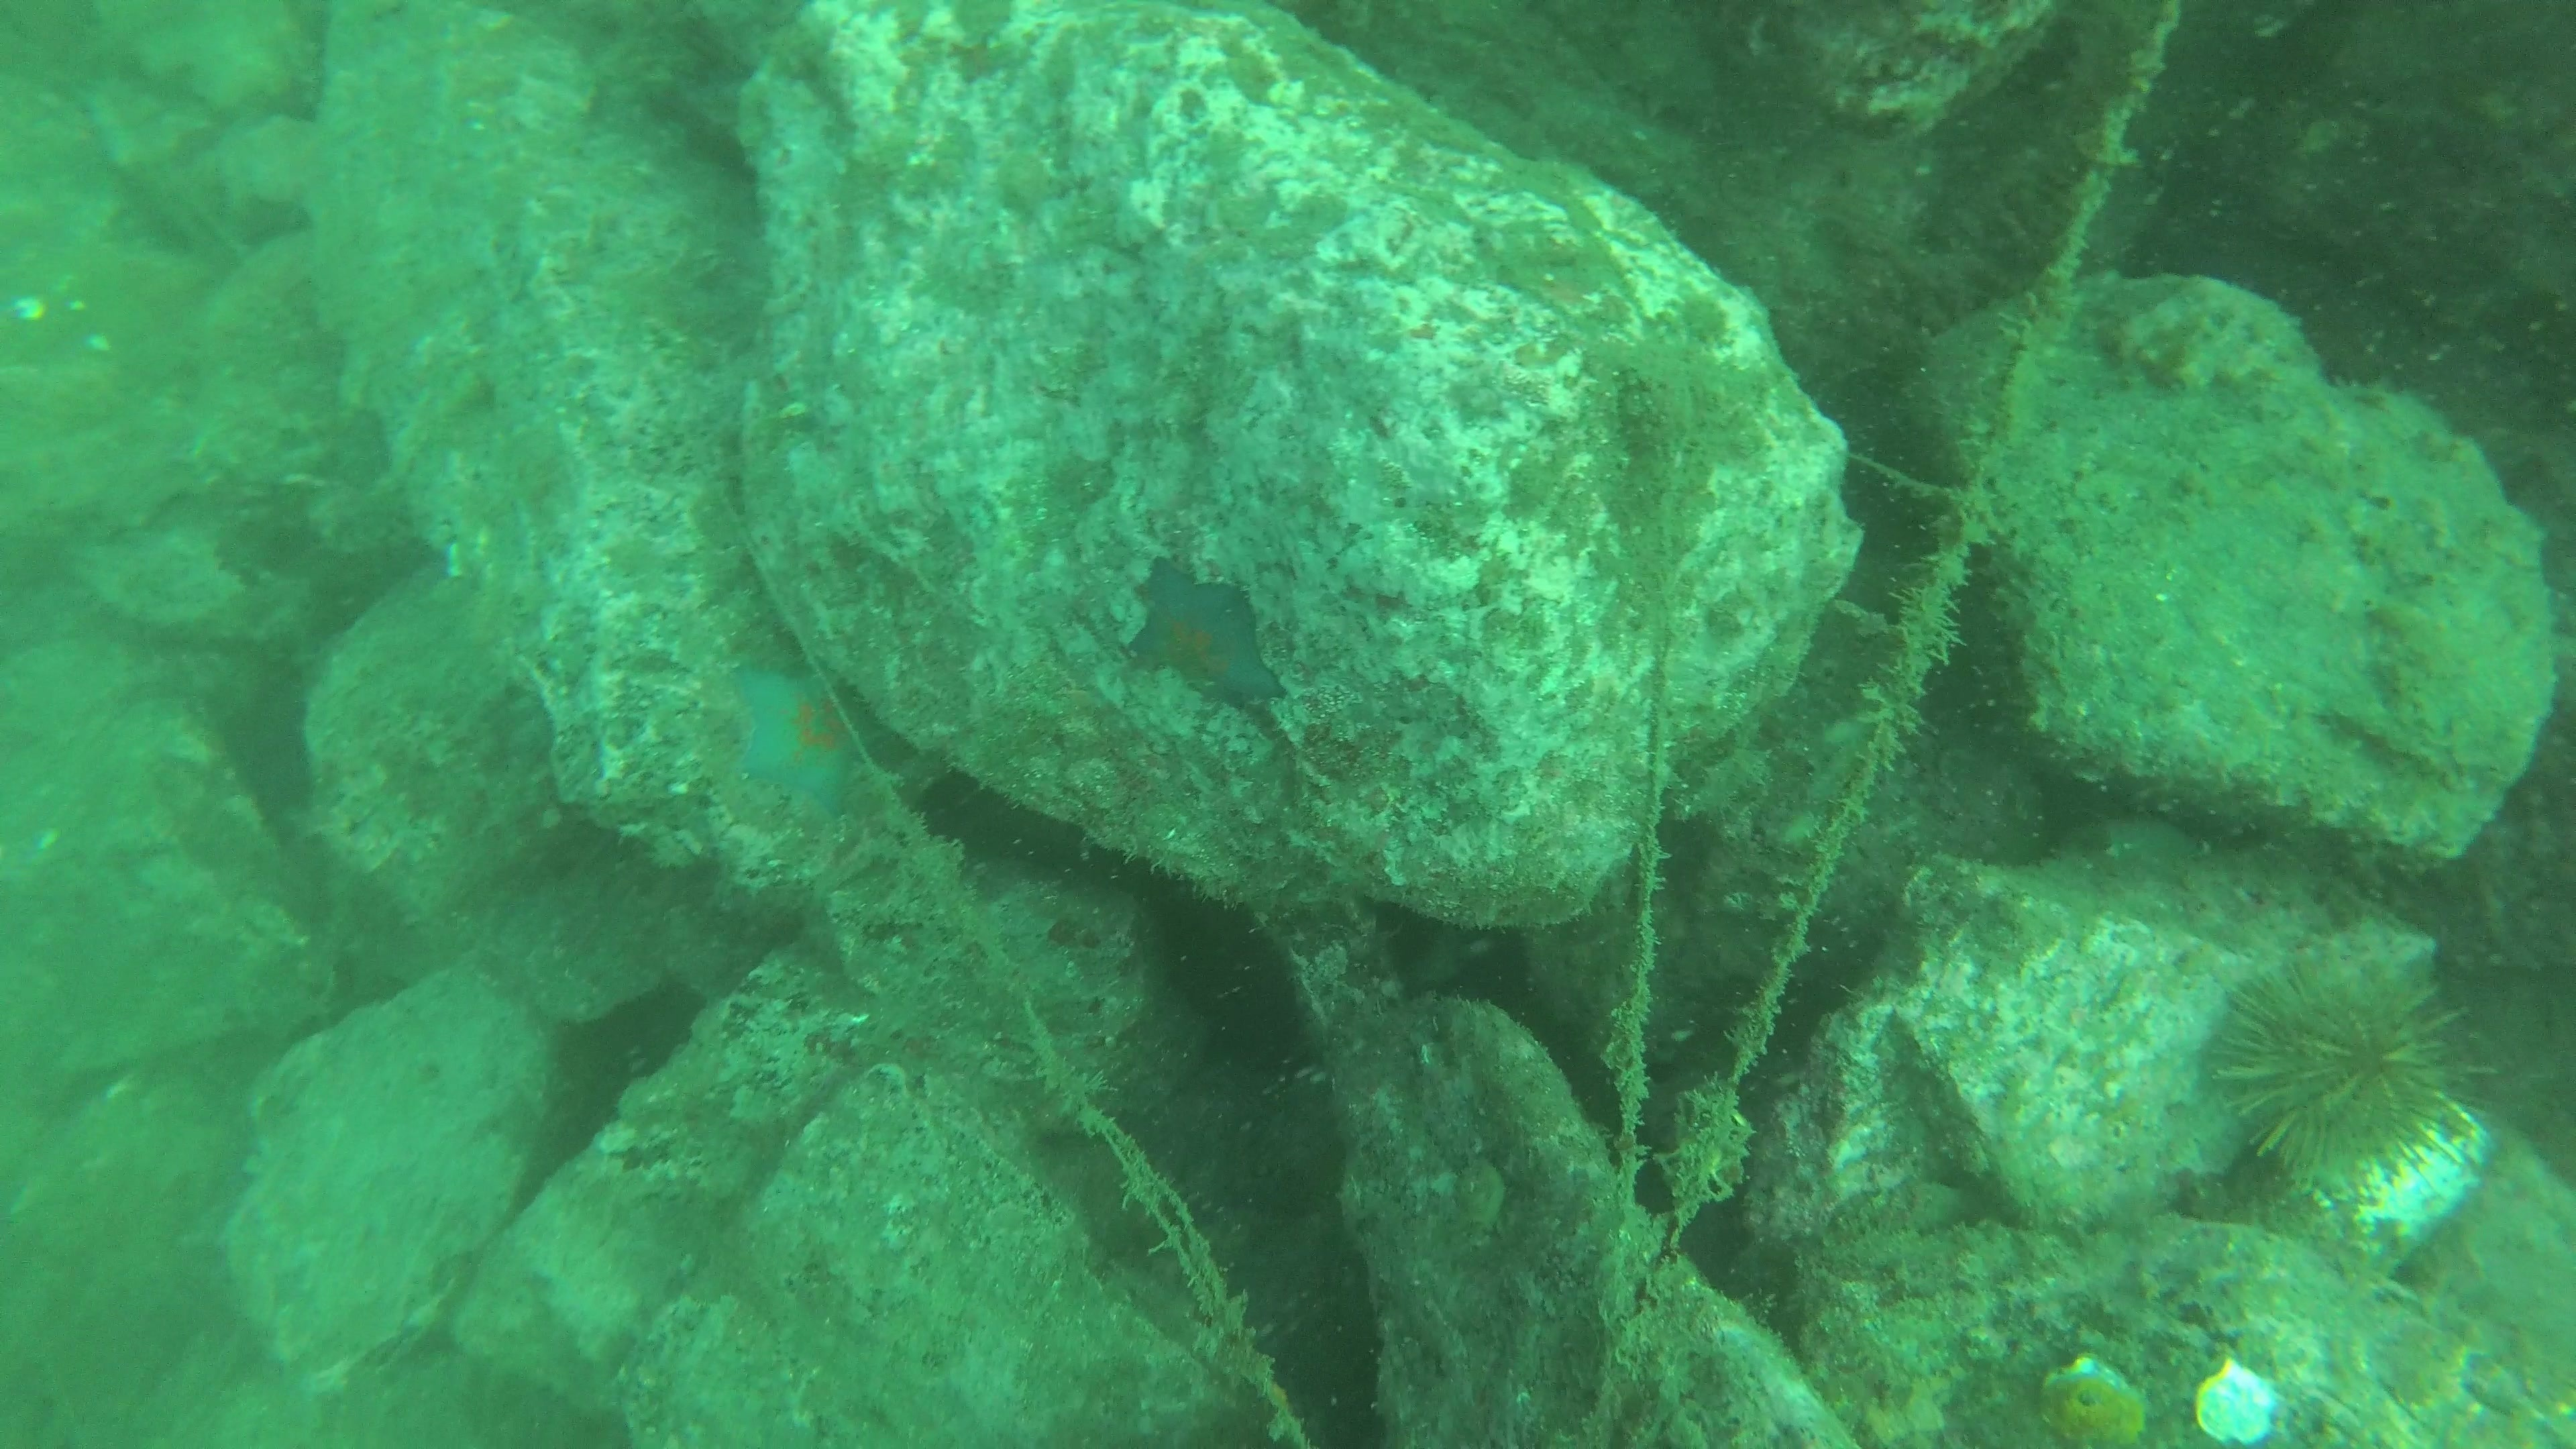echinus: (2204, 950, 2482, 1189)
starfish: (717, 653, 881, 824), (1118, 559, 1290, 718)
